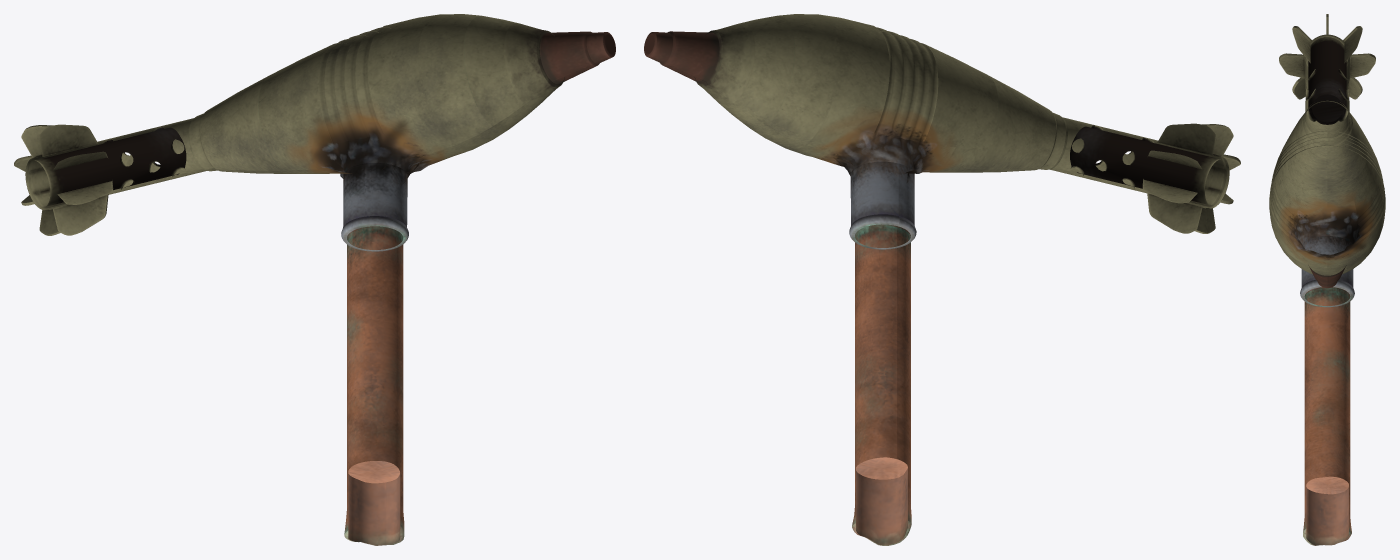
Rendered from kladivo_minove.glb.
The picture shows the model from 3 angles, left to right: view 1: azimuth 30°, elevation 25°; view 2: azimuth 150°, elevation 25°; view 3: azimuth 270°, elevation 25°; orthographic projection. The views are drawn at different scales.
Visible parts, largest first — view 1: kladivo_minove; view 2: kladivo_minove; view 3: kladivo_minove.
Boxes of the visible parts, <box> form: kladivo_minove: <box>14,14,615,545</box>; kladivo_minove: <box>644,14,1240,545</box>; kladivo_minove: <box>1269,14,1385,545</box>.
Bounding box in the file's own units: 1.01 × 0.85 × 0.2208.
Materials: 1 (1 with a texture image).
